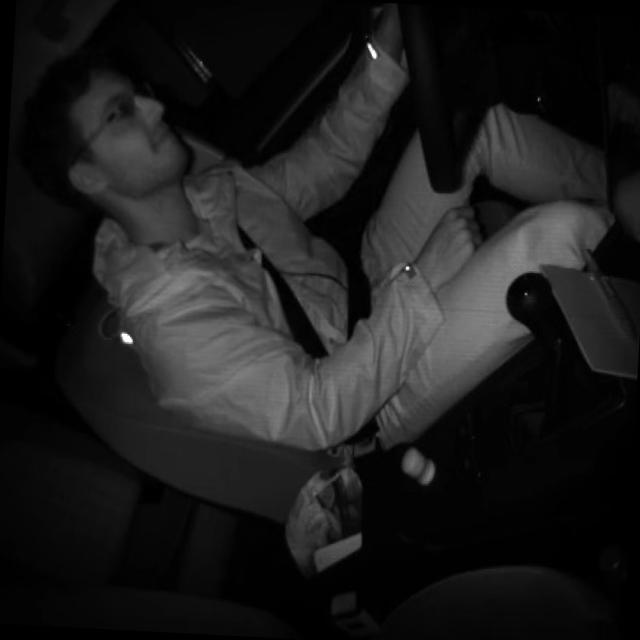pen: (574, 239, 640, 343)
